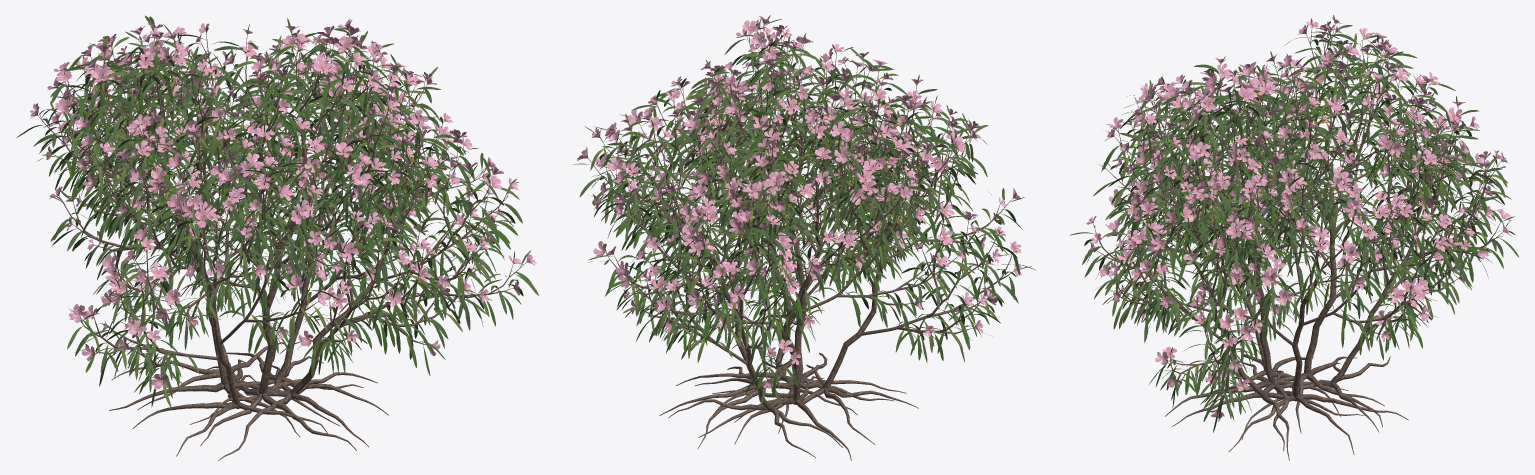
The model's file is MESH_BS09_NeriumOleander_Y_LOD0.fbx.
The picture shows the model from 3 angles, left to right: view 1: azimuth 30°, elevation 25°; view 2: azimuth 150°, elevation 25°; view 3: azimuth 270°, elevation 25°; orthographic projection. The views are drawn at different scales.
Parts seen in each view (by area): view 1: MI_LOD0_001, MI_LOD0_002, MI_LOD0; view 2: MI_LOD0_001, MI_LOD0_002, MI_LOD0; view 3: MI_LOD0_001, MI_LOD0_002, MI_LOD0.
Boxes of the visible parts, <box> form: MI_LOD0_001: <box>16,15,539,408</box>; MI_LOD0_002: <box>30,19,536,389</box>; MI_LOD0: <box>38,30,526,460</box>; MI_LOD0_001: <box>573,15,1036,406</box>; MI_LOD0_002: <box>577,16,1021,388</box>; MI_LOD0: <box>588,25,1013,460</box>; MI_LOD0_001: <box>1069,15,1519,432</box>; MI_LOD0_002: <box>1086,17,1511,418</box>; MI_LOD0: <box>1093,24,1502,460</box>.
Bounding box in the file's own units: 256 × 223 × 251.
